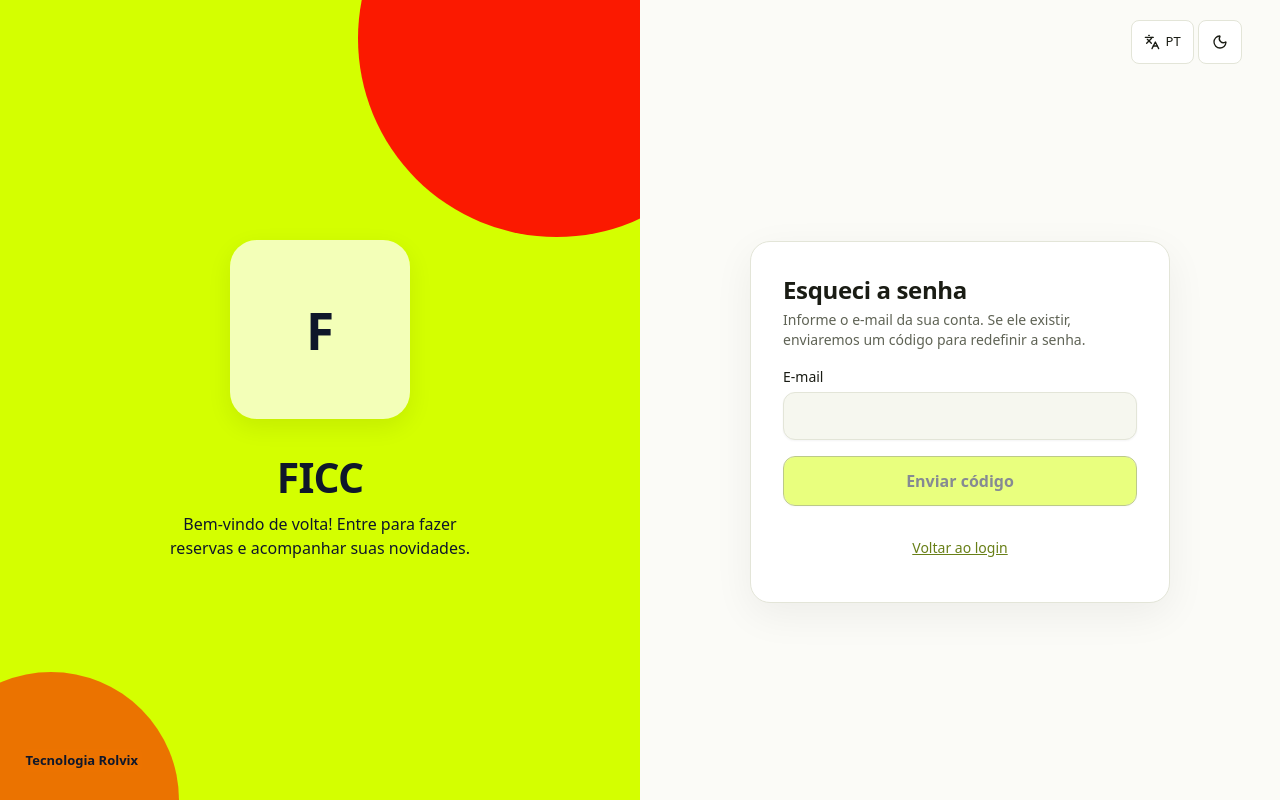
logged-out portal language switch › switches forgot-password copy to Spanish
The image size is (1280, 800).
Check: the heading "Esqueci a senha" is shown, box [783,273,967,306]
Click the button with aria-label "Idioma": coordinates (1162, 42) [1130,20,1194,64]
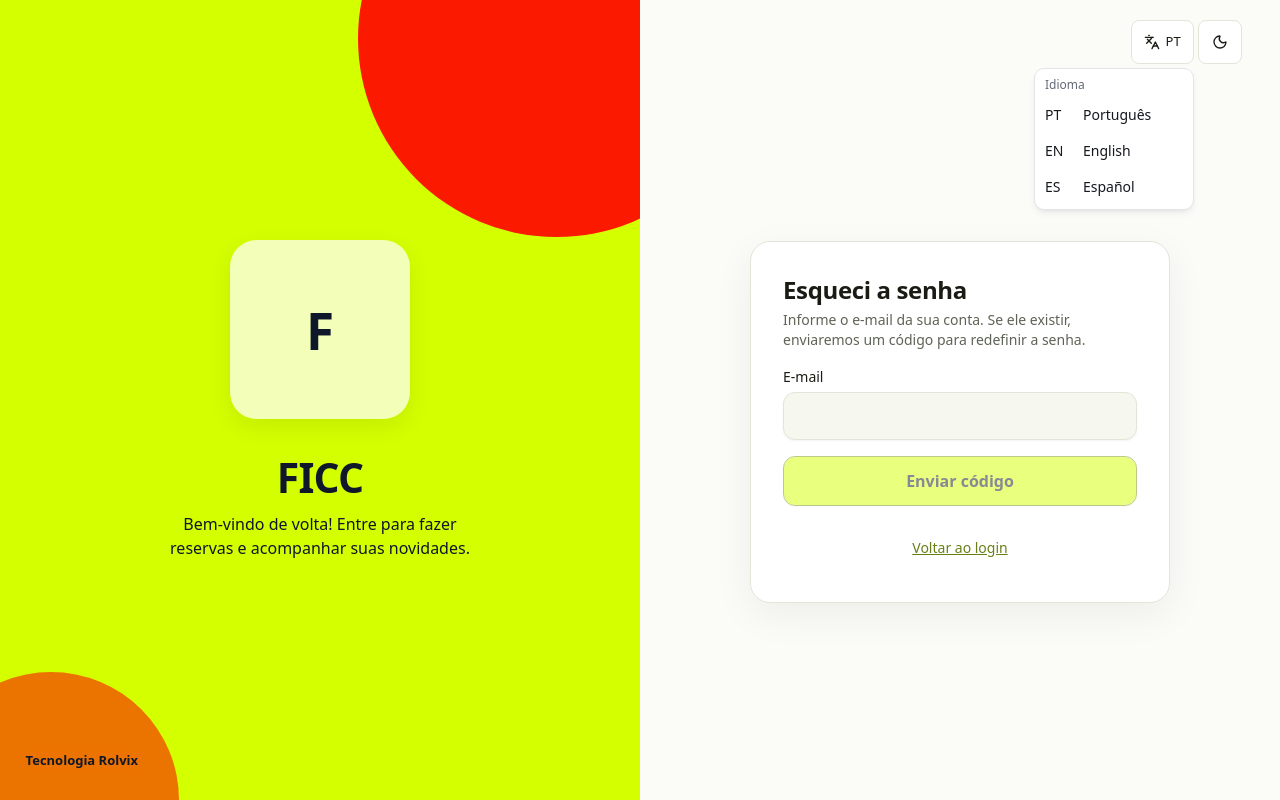
Click the menu item "ES Español": coordinates (1090, 186) [1045,177,1135,196]
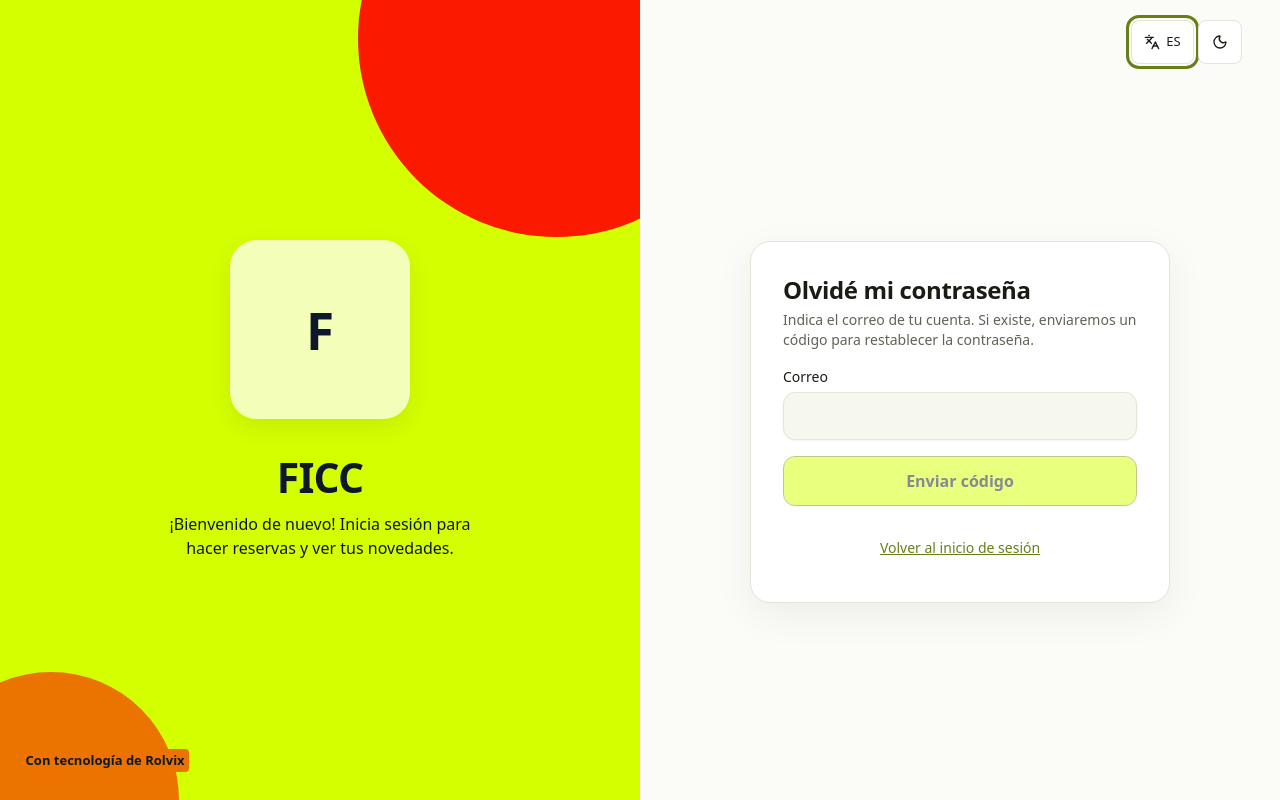
Check: the heading "Olvidé mi contraseña" is shown, box [783,273,1031,306]
